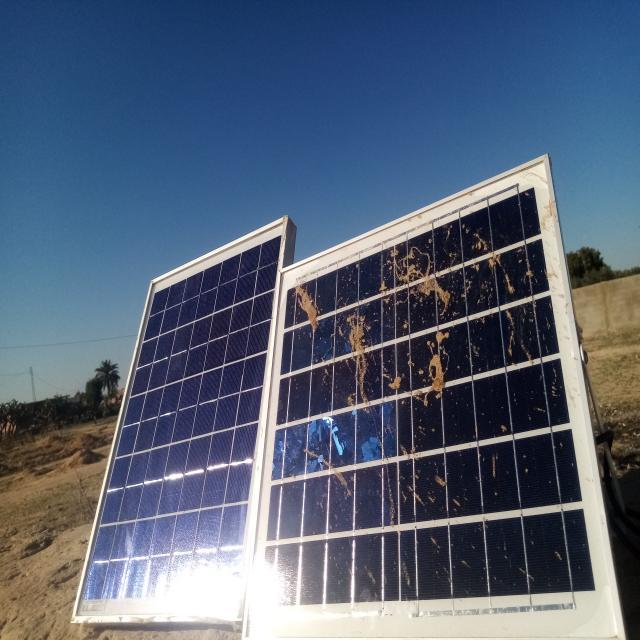faulty: (243, 156, 623, 639)
no faulty: (73, 218, 287, 621)
